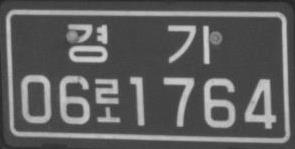0: (19, 72, 53, 125)
1: (124, 75, 152, 126)
4: (243, 77, 277, 130)
6: (202, 76, 237, 129), (58, 73, 91, 126)
7: (161, 75, 196, 128)
경기_D: (66, 22, 211, 65)
로: (93, 76, 121, 123)
